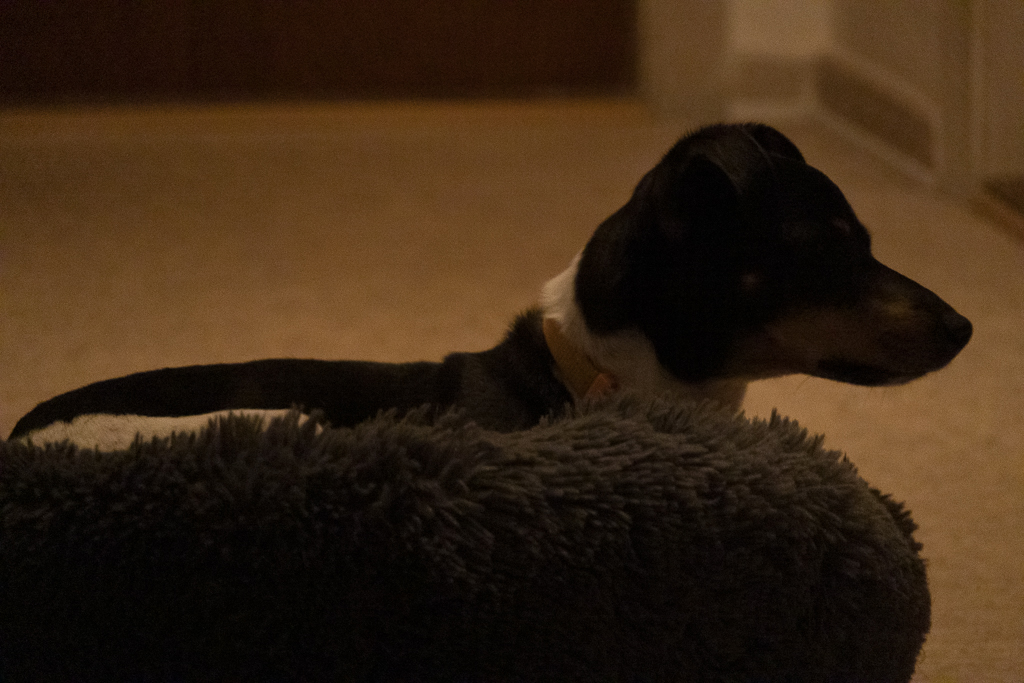Dog: (0, 105, 987, 466)
